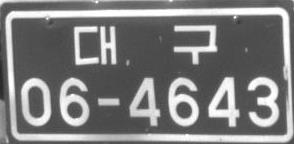0: (20, 75, 52, 128)
3: (247, 75, 279, 128)
4: (207, 76, 240, 128), (129, 75, 161, 127)
6: (167, 75, 199, 127), (58, 76, 90, 126)
대구_D: (73, 24, 217, 66)
